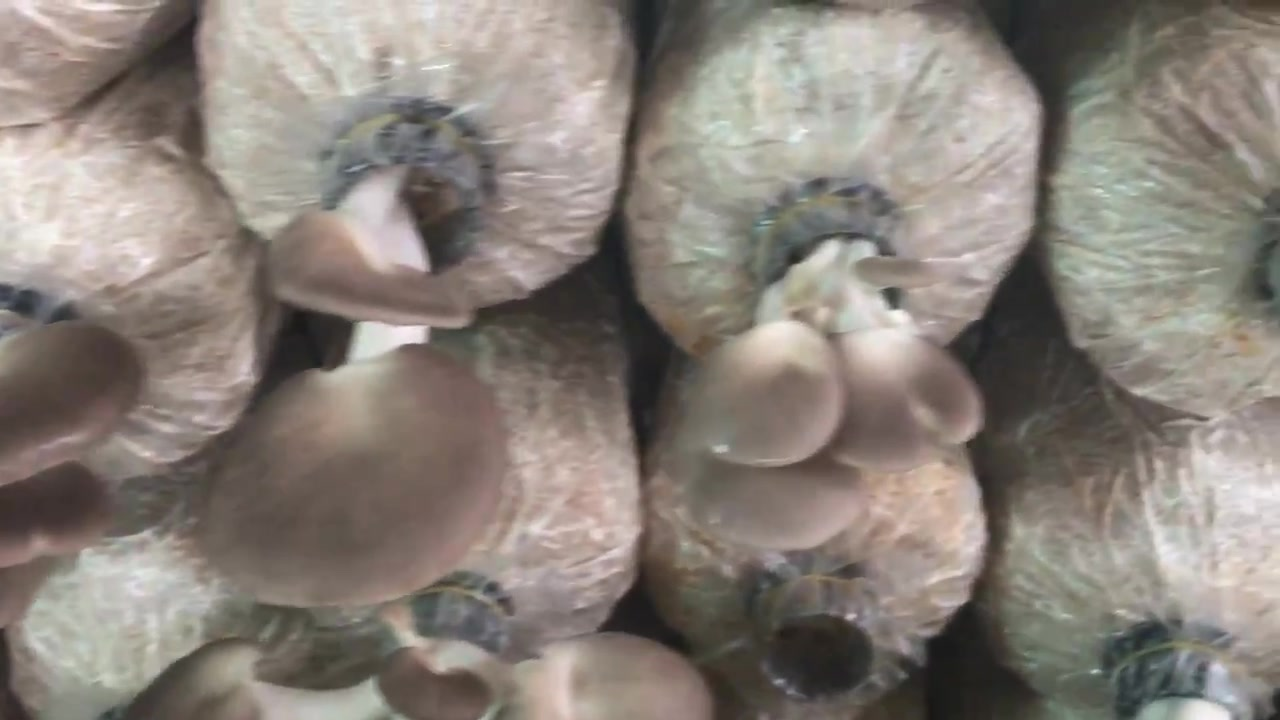nam: (203, 110, 514, 616), (673, 182, 985, 555), (122, 574, 725, 720), (1, 314, 143, 627)
